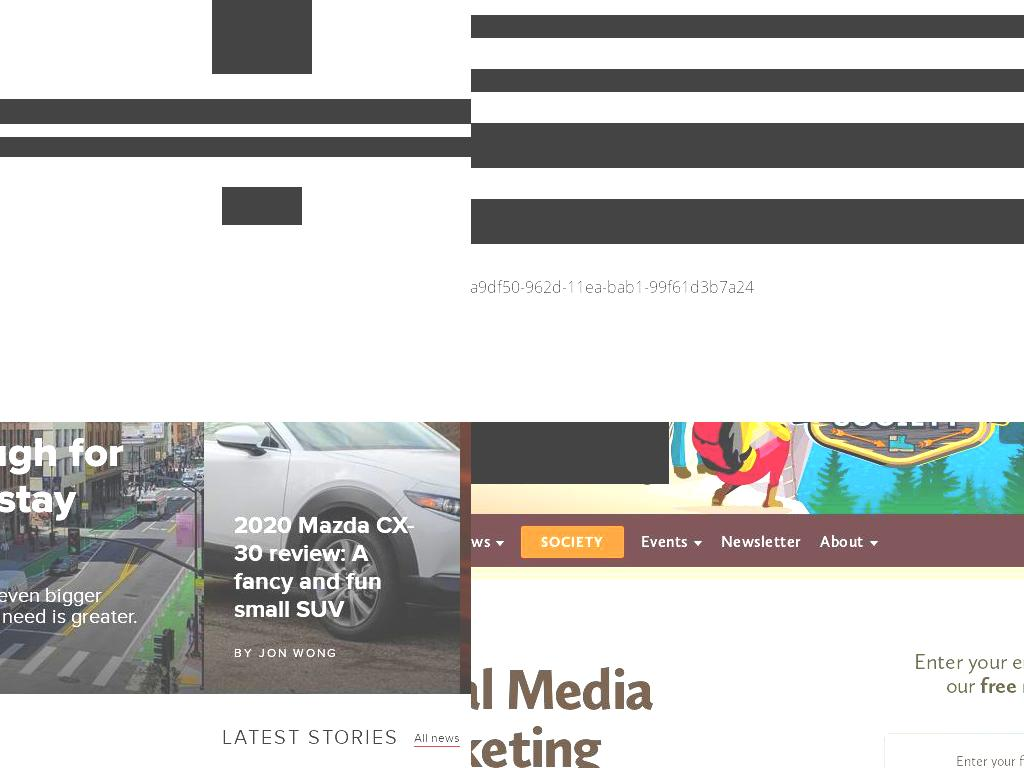button: (204, 422, 460, 695), (0, 422, 204, 695), (718, 514, 804, 567), (638, 514, 704, 567), (520, 526, 624, 558), (818, 514, 880, 567), (222, 187, 302, 225), (471, 514, 507, 567), (413, 729, 460, 748)
field: (883, 733, 1024, 768)
heading: (471, 660, 818, 768), (234, 512, 414, 625), (0, 422, 124, 570), (221, 724, 399, 753)
image: (204, 422, 460, 695), (0, 422, 204, 695), (783, 422, 1014, 469), (212, 0, 312, 74)
link: (259, 646, 338, 661)
text: (471, 199, 1024, 244), (471, 15, 1024, 38), (471, 69, 1024, 92), (471, 123, 1024, 146), (471, 145, 1024, 168), (471, 275, 1024, 298), (0, 99, 471, 124), (0, 137, 471, 157), (0, 586, 144, 629), (471, 460, 669, 484), (222, 187, 302, 225), (913, 648, 1024, 675), (720, 532, 802, 551), (979, 672, 1024, 699), (540, 534, 604, 551), (945, 672, 980, 699), (640, 532, 688, 551), (820, 532, 865, 551), (471, 532, 491, 551), (234, 646, 254, 661)
